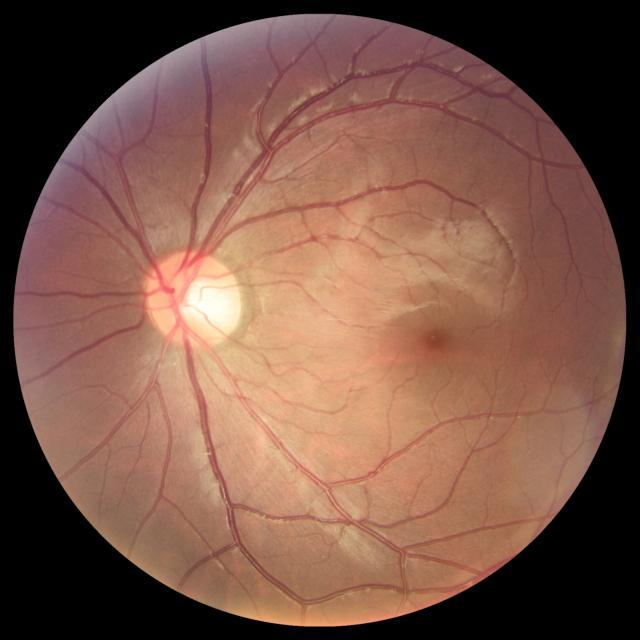OC: (170, 272, 228, 330)
OD: (146, 251, 243, 345)
